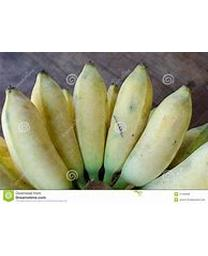banana: (0, 61, 199, 187)
